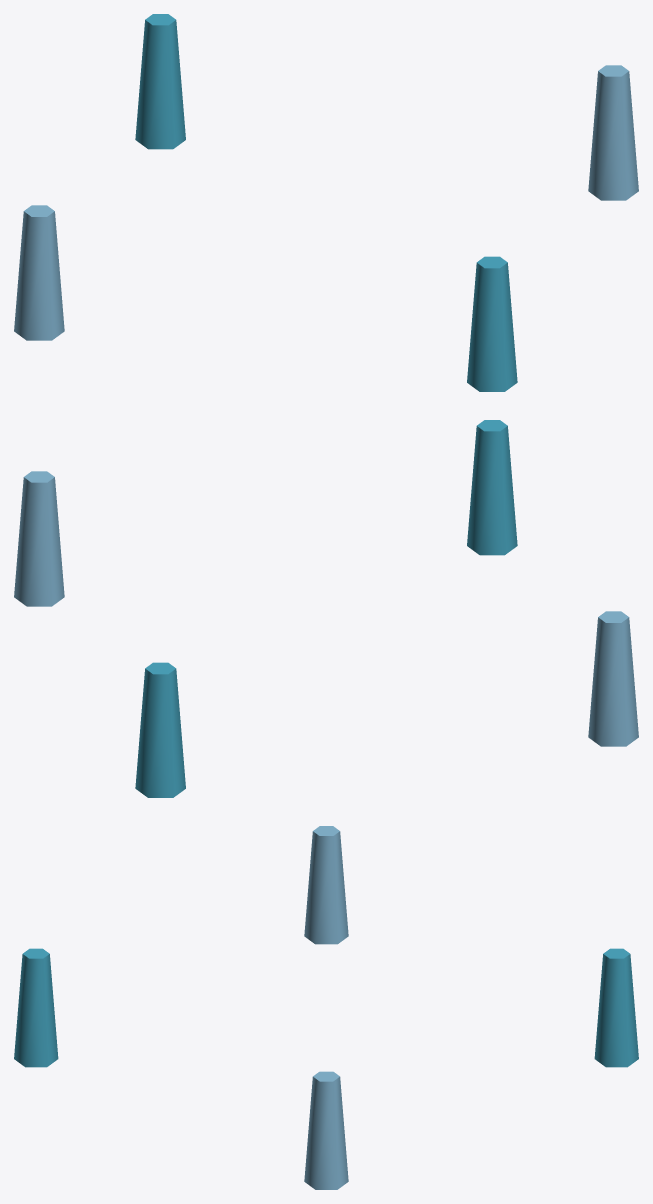
The model's file is boundary.glb.
The picture shows the model from 3 angles, top to bottom: view 1: azimuth 30°, elevation 25°; view 2: azimuth 150°, elevation 25°; view 3: azimuth 270°, elevation 25°; orthographic projection. The views are drawn at different scales.
Parts seen in each view (by area): view 1: boundary_3, boundary_0, boundary_2, boundary_1; view 2: boundary_1, boundary_0, boundary_2, boundary_3; view 3: boundary_1, boundary_3, boundary_2, boundary_0.
Part boxes in pixels (box(x1,y1,x2,y2)): boundary_3: box(135, 14, 185, 149); boundary_0: box(588, 65, 638, 200); boundary_2: box(14, 205, 64, 340); boundary_1: box(467, 256, 517, 391); boundary_1: box(467, 420, 517, 555); boundary_0: box(14, 471, 64, 606); boundary_2: box(588, 611, 638, 746); boundary_3: box(135, 662, 185, 797); boundary_1: box(14, 948, 58, 1067); boundary_3: box(594, 948, 638, 1067); boundary_2: box(304, 826, 348, 944); boundary_0: box(304, 1071, 348, 1189).
Size of what is drawn, in the model's own units: 18.13 by 3.4 by 18.3.
